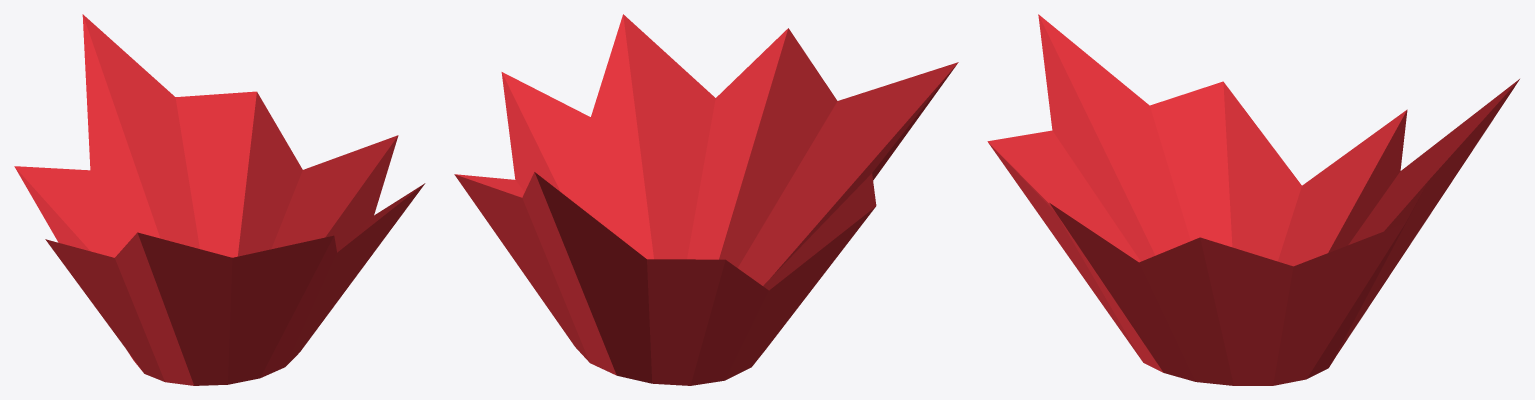
Rendered from Blossom.fbx.
3 renders of one model, left to right at view 1: azimuth 30°, elevation 25°; view 2: azimuth 150°, elevation 25°; view 3: azimuth 270°, elevation 25°, orthographic. The views are drawn at different scales.
Parts seen in each view (by area): view 1: Cylinder.004; view 2: Cylinder.004; view 3: Cylinder.004.
Part boxes in pixels (x1,y1,x2,y2): Cylinder.004: [14, 14, 425, 385]; Cylinder.004: [454, 14, 958, 385]; Cylinder.004: [987, 14, 1519, 385].
Size of the model in its own units: 53.85 by 37.72 by 64.84.
